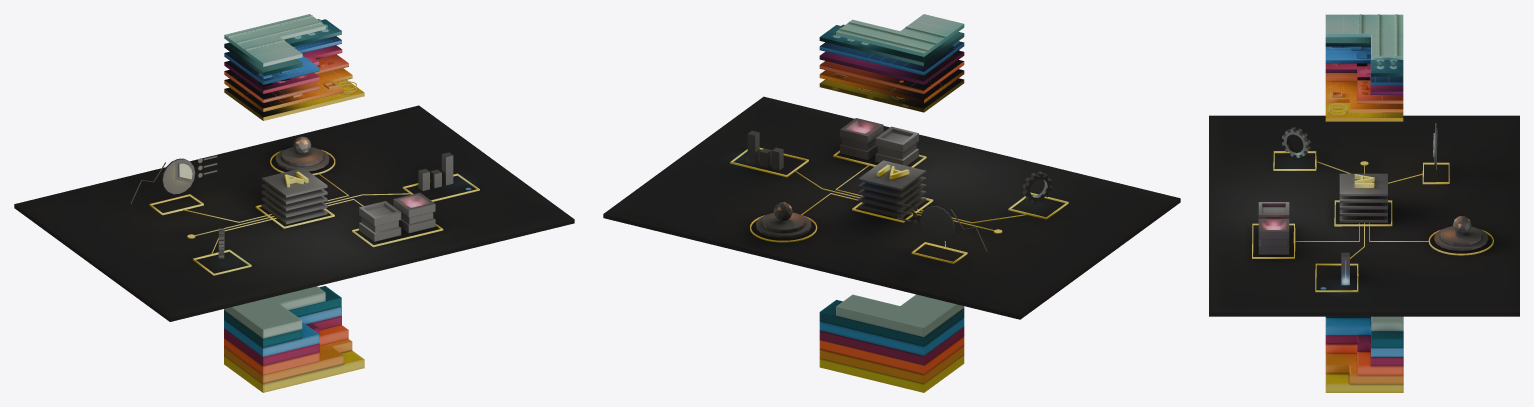
The model's file is value-blueprint5.glb.
3 views of the same model, side by side, from view 1: azimuth 30°, elevation 25°; view 2: azimuth 150°, elevation 25°; view 3: azimuth 270°, elevation 25° (orthographic). The views are drawn at different scales.
Visible parts, largest first — view 1: ae-plane, mini7, ae-core, ae-brick, layer7, ae-tracks, layer2, layer1, layer5, layer6, layer3, layer4 (+4 smaller); view 2: ae-plane, mini7, ae-core, ae-brick, layer7, ae-tracks, layer6, layer4, layer3, layer5, layer2, layer1 (+5 smaller); view 3: ae-plane, mini7, layer7, ae-core, ae-tracks, ae-brick, layer2, layer5, ae-stand, layer1, layer6, layer3 (+4 smaller).
Part boxes in pixels (x1,y1,x2,y2): ae-plane: [14, 105, 574, 321]; mini7: [224, 286, 364, 392]; ae-core: [261, 167, 327, 224]; ae-brick: [359, 192, 435, 241]; layer7: [224, 14, 325, 66]; ae-tracks: [149, 150, 479, 275]; layer2: [224, 68, 352, 111]; layer1: [224, 80, 364, 120]; layer5: [224, 36, 341, 84]; layer6: [224, 19, 341, 75]; layer3: [224, 54, 348, 102]; layer4: [224, 45, 342, 93]; ae-plane: [603, 96, 1180, 319]; mini7: [819, 294, 964, 392]; ae-core: [858, 160, 926, 218]; ae-brick: [840, 118, 918, 165]; layer7: [836, 14, 964, 56]; ae-tracks: [730, 147, 1068, 264]; layer6: [819, 25, 964, 66]; layer4: [819, 50, 964, 84]; layer3: [819, 60, 964, 93]; layer5: [819, 41, 964, 75]; layer2: [819, 69, 964, 103]; layer1: [819, 78, 964, 112]; ae-plane: [1209, 115, 1519, 316]; mini7: [1325, 316, 1403, 392]; layer7: [1325, 14, 1403, 59]; ae-core: [1339, 173, 1387, 222]; ae-tracks: [1252, 151, 1493, 292]; ae-brick: [1258, 202, 1289, 254]; layer2: [1325, 82, 1403, 112]; layer5: [1325, 46, 1403, 85]; ae-stand: [1434, 226, 1488, 250]; layer1: [1325, 102, 1403, 121]; layer6: [1325, 37, 1403, 76]; layer3: [1325, 73, 1403, 103].
Bounding box in the file's own units: 11.97 × 9.34 × 7.98.
28 materials, 28 textured.
